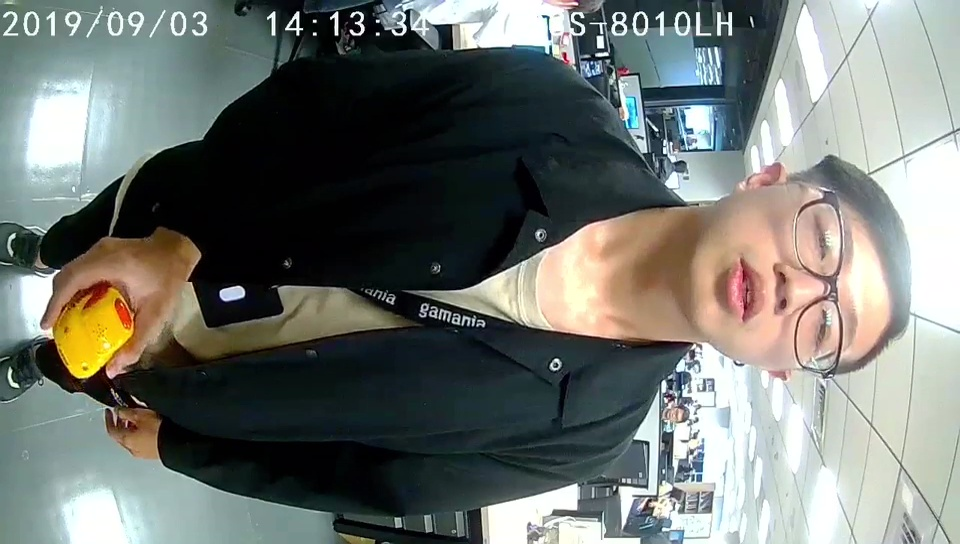car: (53, 279, 135, 378)
